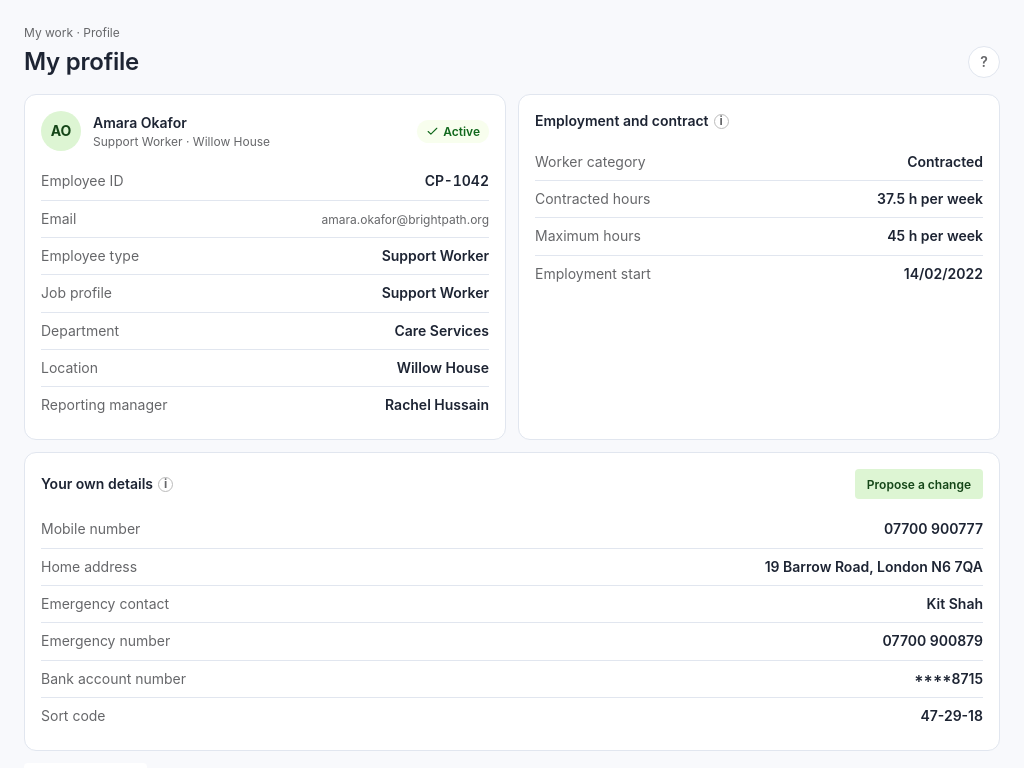
Scenario: the profile page offers a ? that opens its guide, section by section
This screenshot has width=1024, height=768.
Step 1. Click the button "?" → point(984, 62), box [968,46,1000,78]
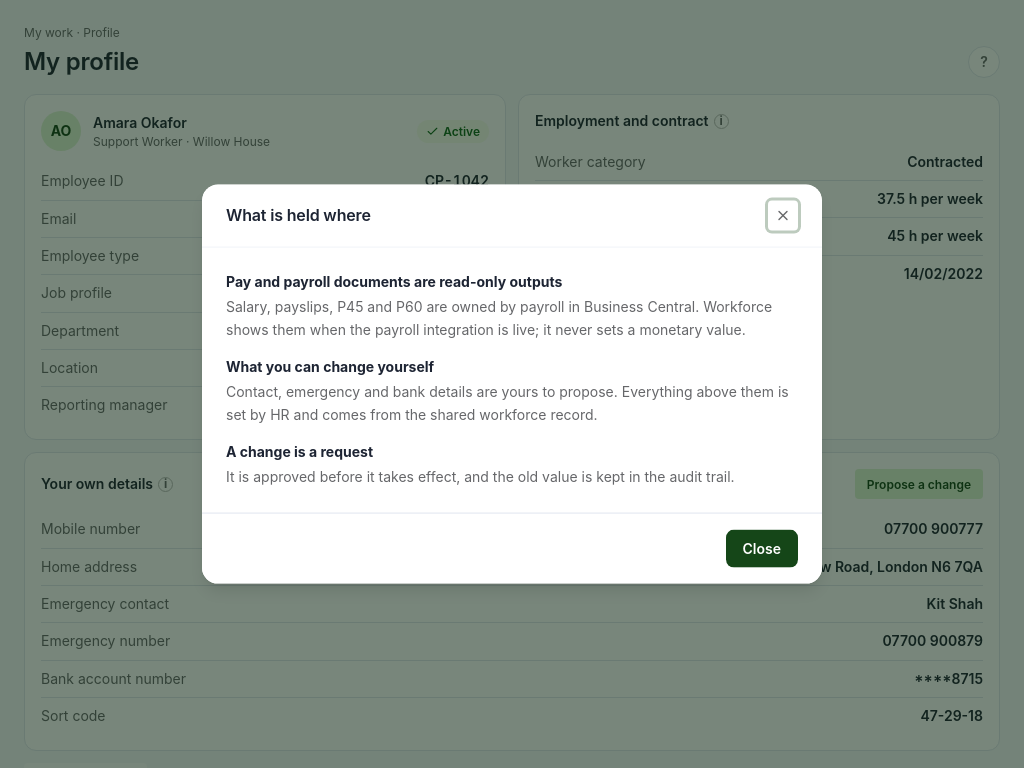
Now the heading with test id "modal-title" reads "What is held where", box [226,205,371,225]
Now the heading "Pay and payroll documents are read-only outputs" is shown, box [226,273,562,290]
Now the dialog shows "Salary, payslips, P45 and P60 are owned by payroll in Business Central. Workforce shows them when the payroll integration is live; it never sets a monetary valu", box [226,298,772,337]
Step 2. Click the button with test id "guide-close" → point(762, 548), box [726,529,798,567]
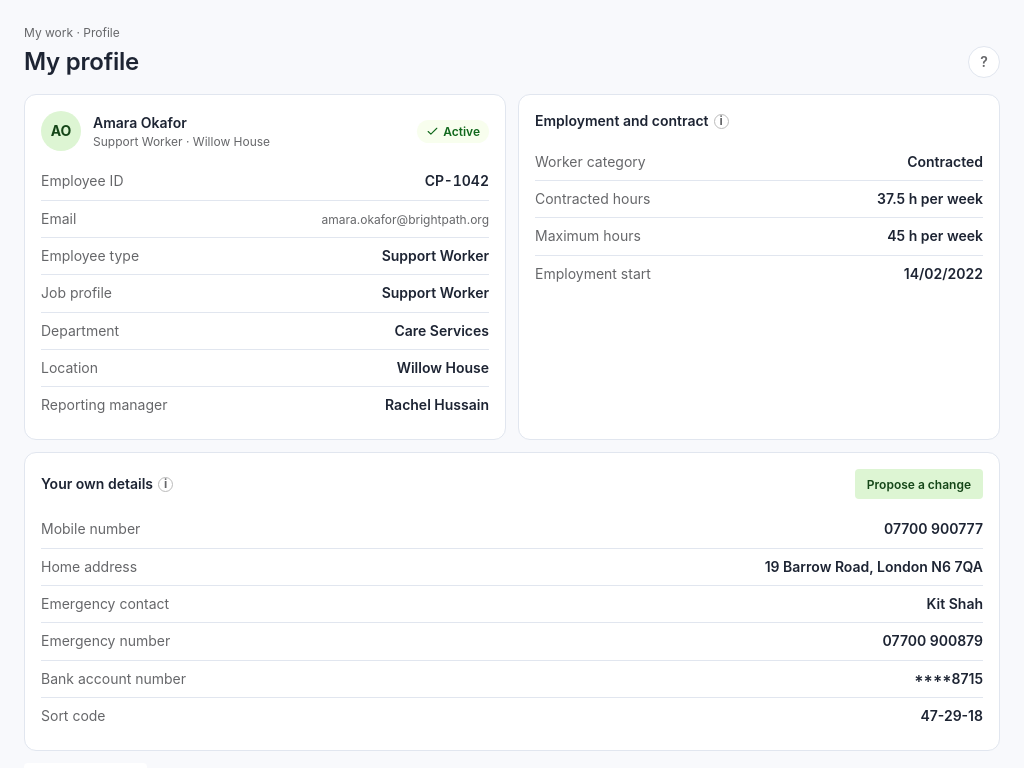
Now the dialog is gone
